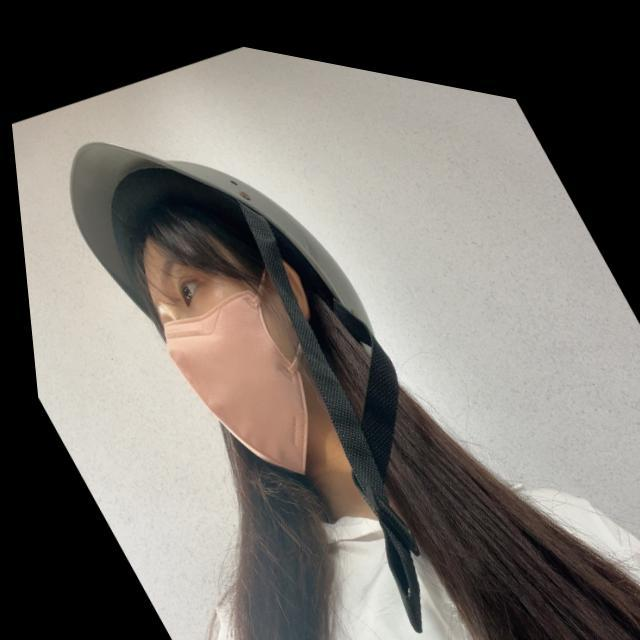Helmet: (62, 113, 419, 492)
